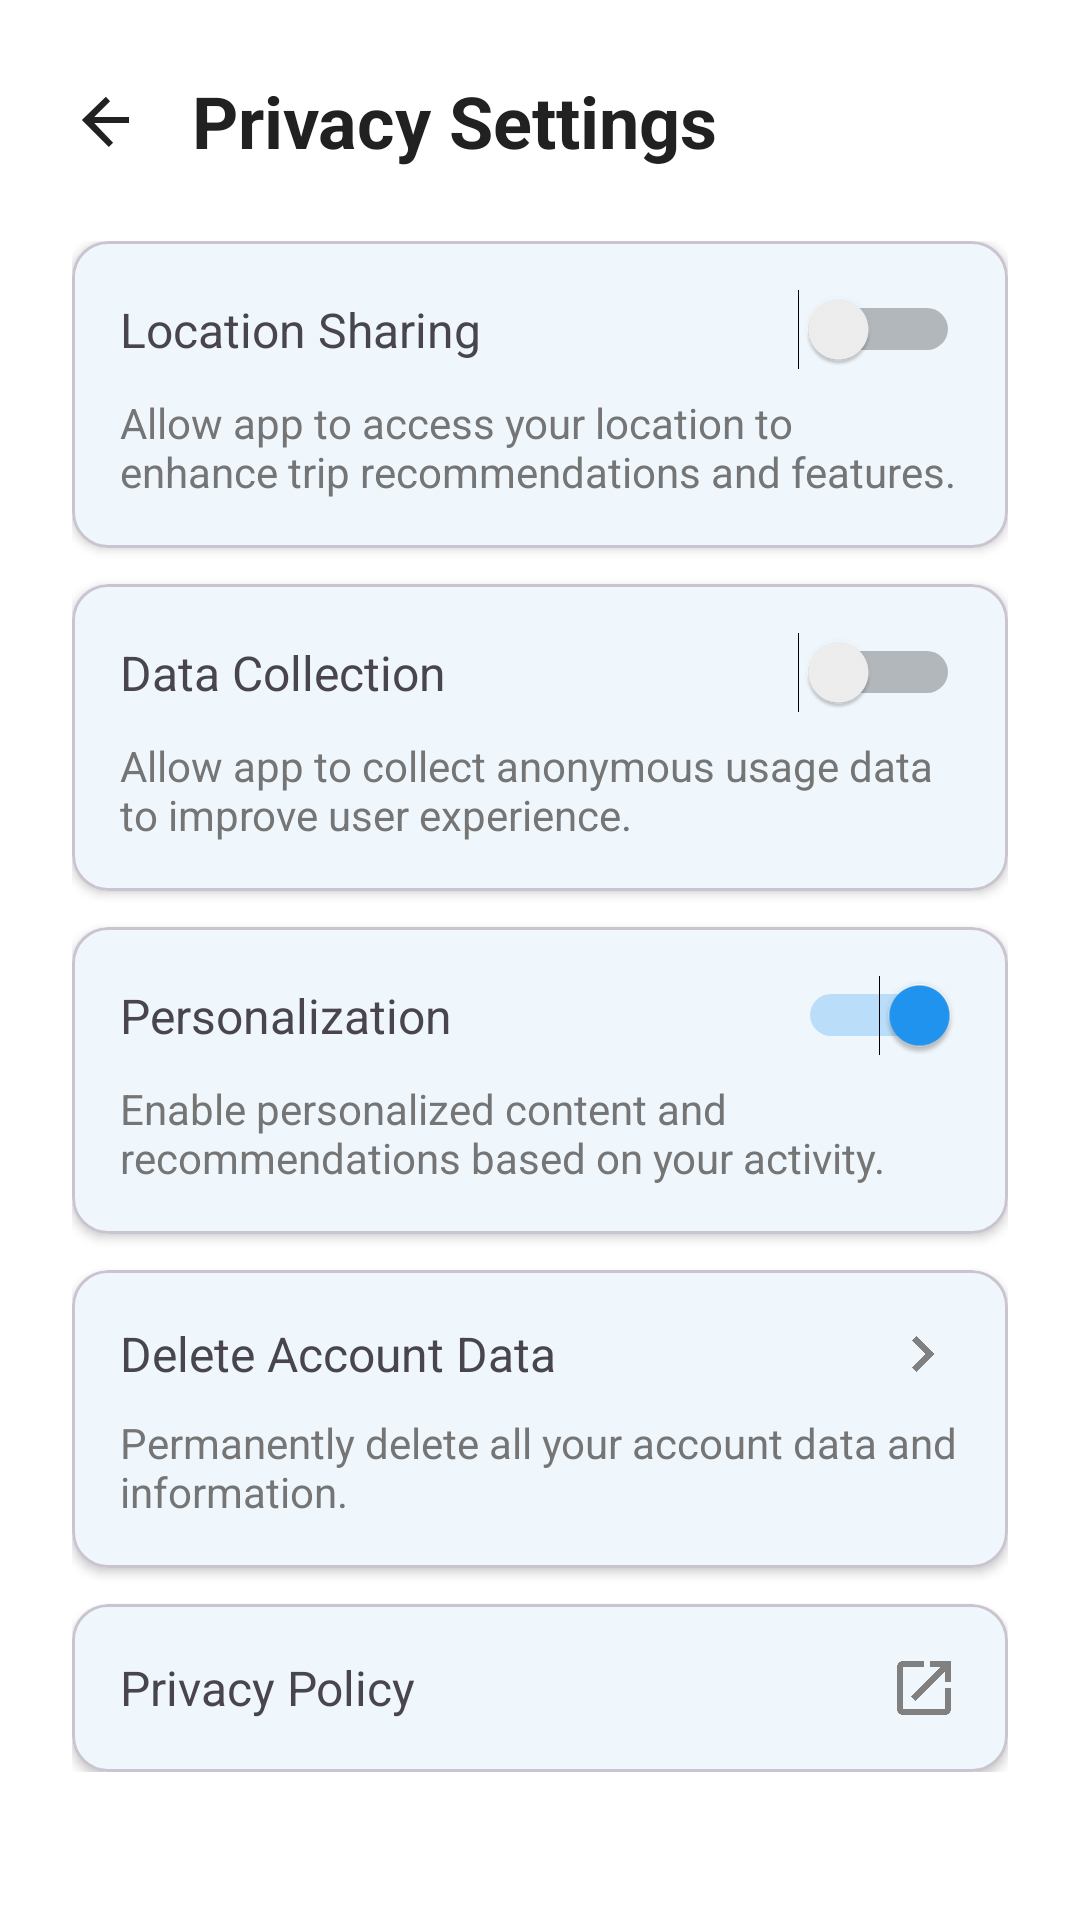

Screen size 1080×1920. Icon name, then its box in pixels as [x1, y1, x2, y2]:
Back: [82, 97, 129, 147]
chevron right: [912, 1336, 934, 1372]
external link: [897, 1661, 951, 1715]
